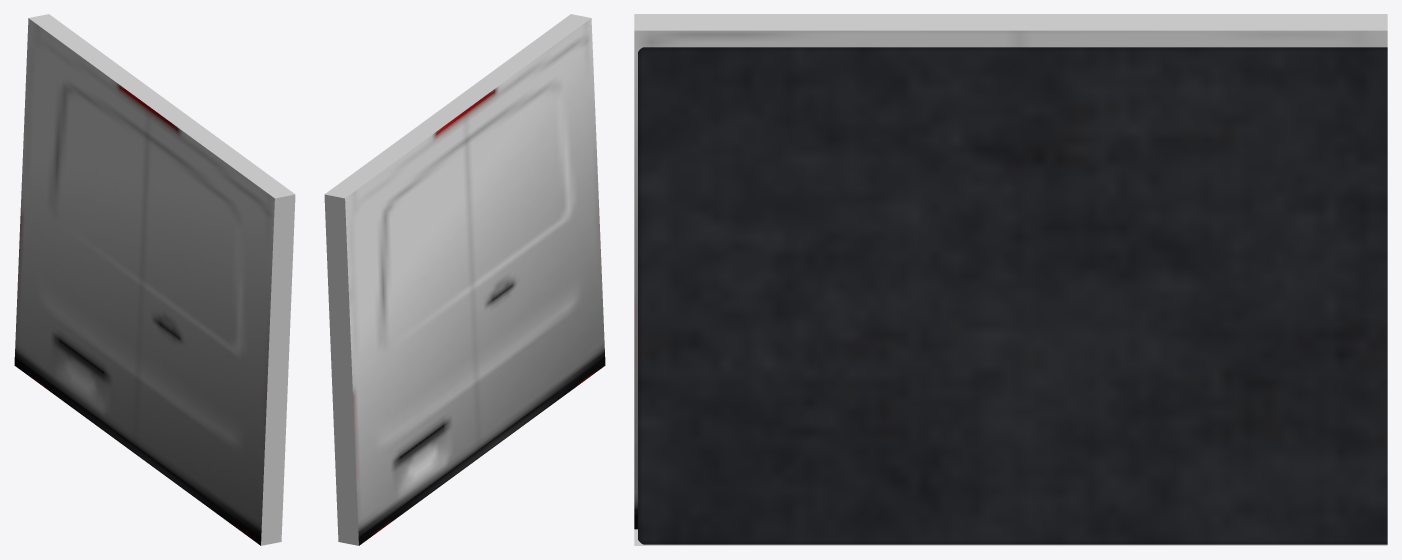
The model's file is Van_Door.fbx.
3 renders of one model, left to right at view 1: azimuth 30°, elevation 25°; view 2: azimuth 150°, elevation 25°; view 3: azimuth 270°, elevation 25°, orthographic. The views are drawn at different scales.
Visible parts, largest first — view 1: Van_Door; view 2: Van_Door; view 3: Van_Door.
Part boxes in pixels (bbox=[...]): Van_Door: bbox=[14, 14, 295, 545]; Van_Door: bbox=[324, 14, 605, 545]; Van_Door: bbox=[634, 14, 1387, 545].
Bounding box in the file's own units: 29.14 × 278 × 360.
